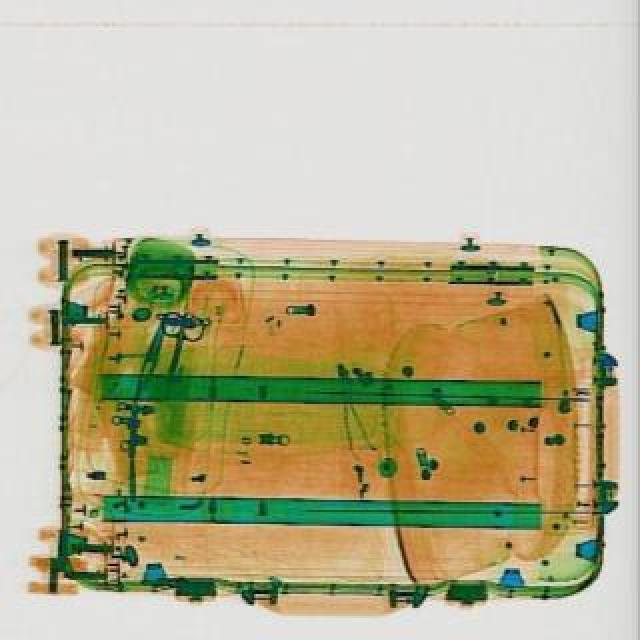pliers: (152, 308, 208, 388)
